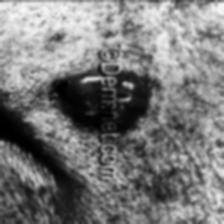Potentially Malignant Skin Tumors: (49, 66, 93, 140), (118, 64, 150, 138)
